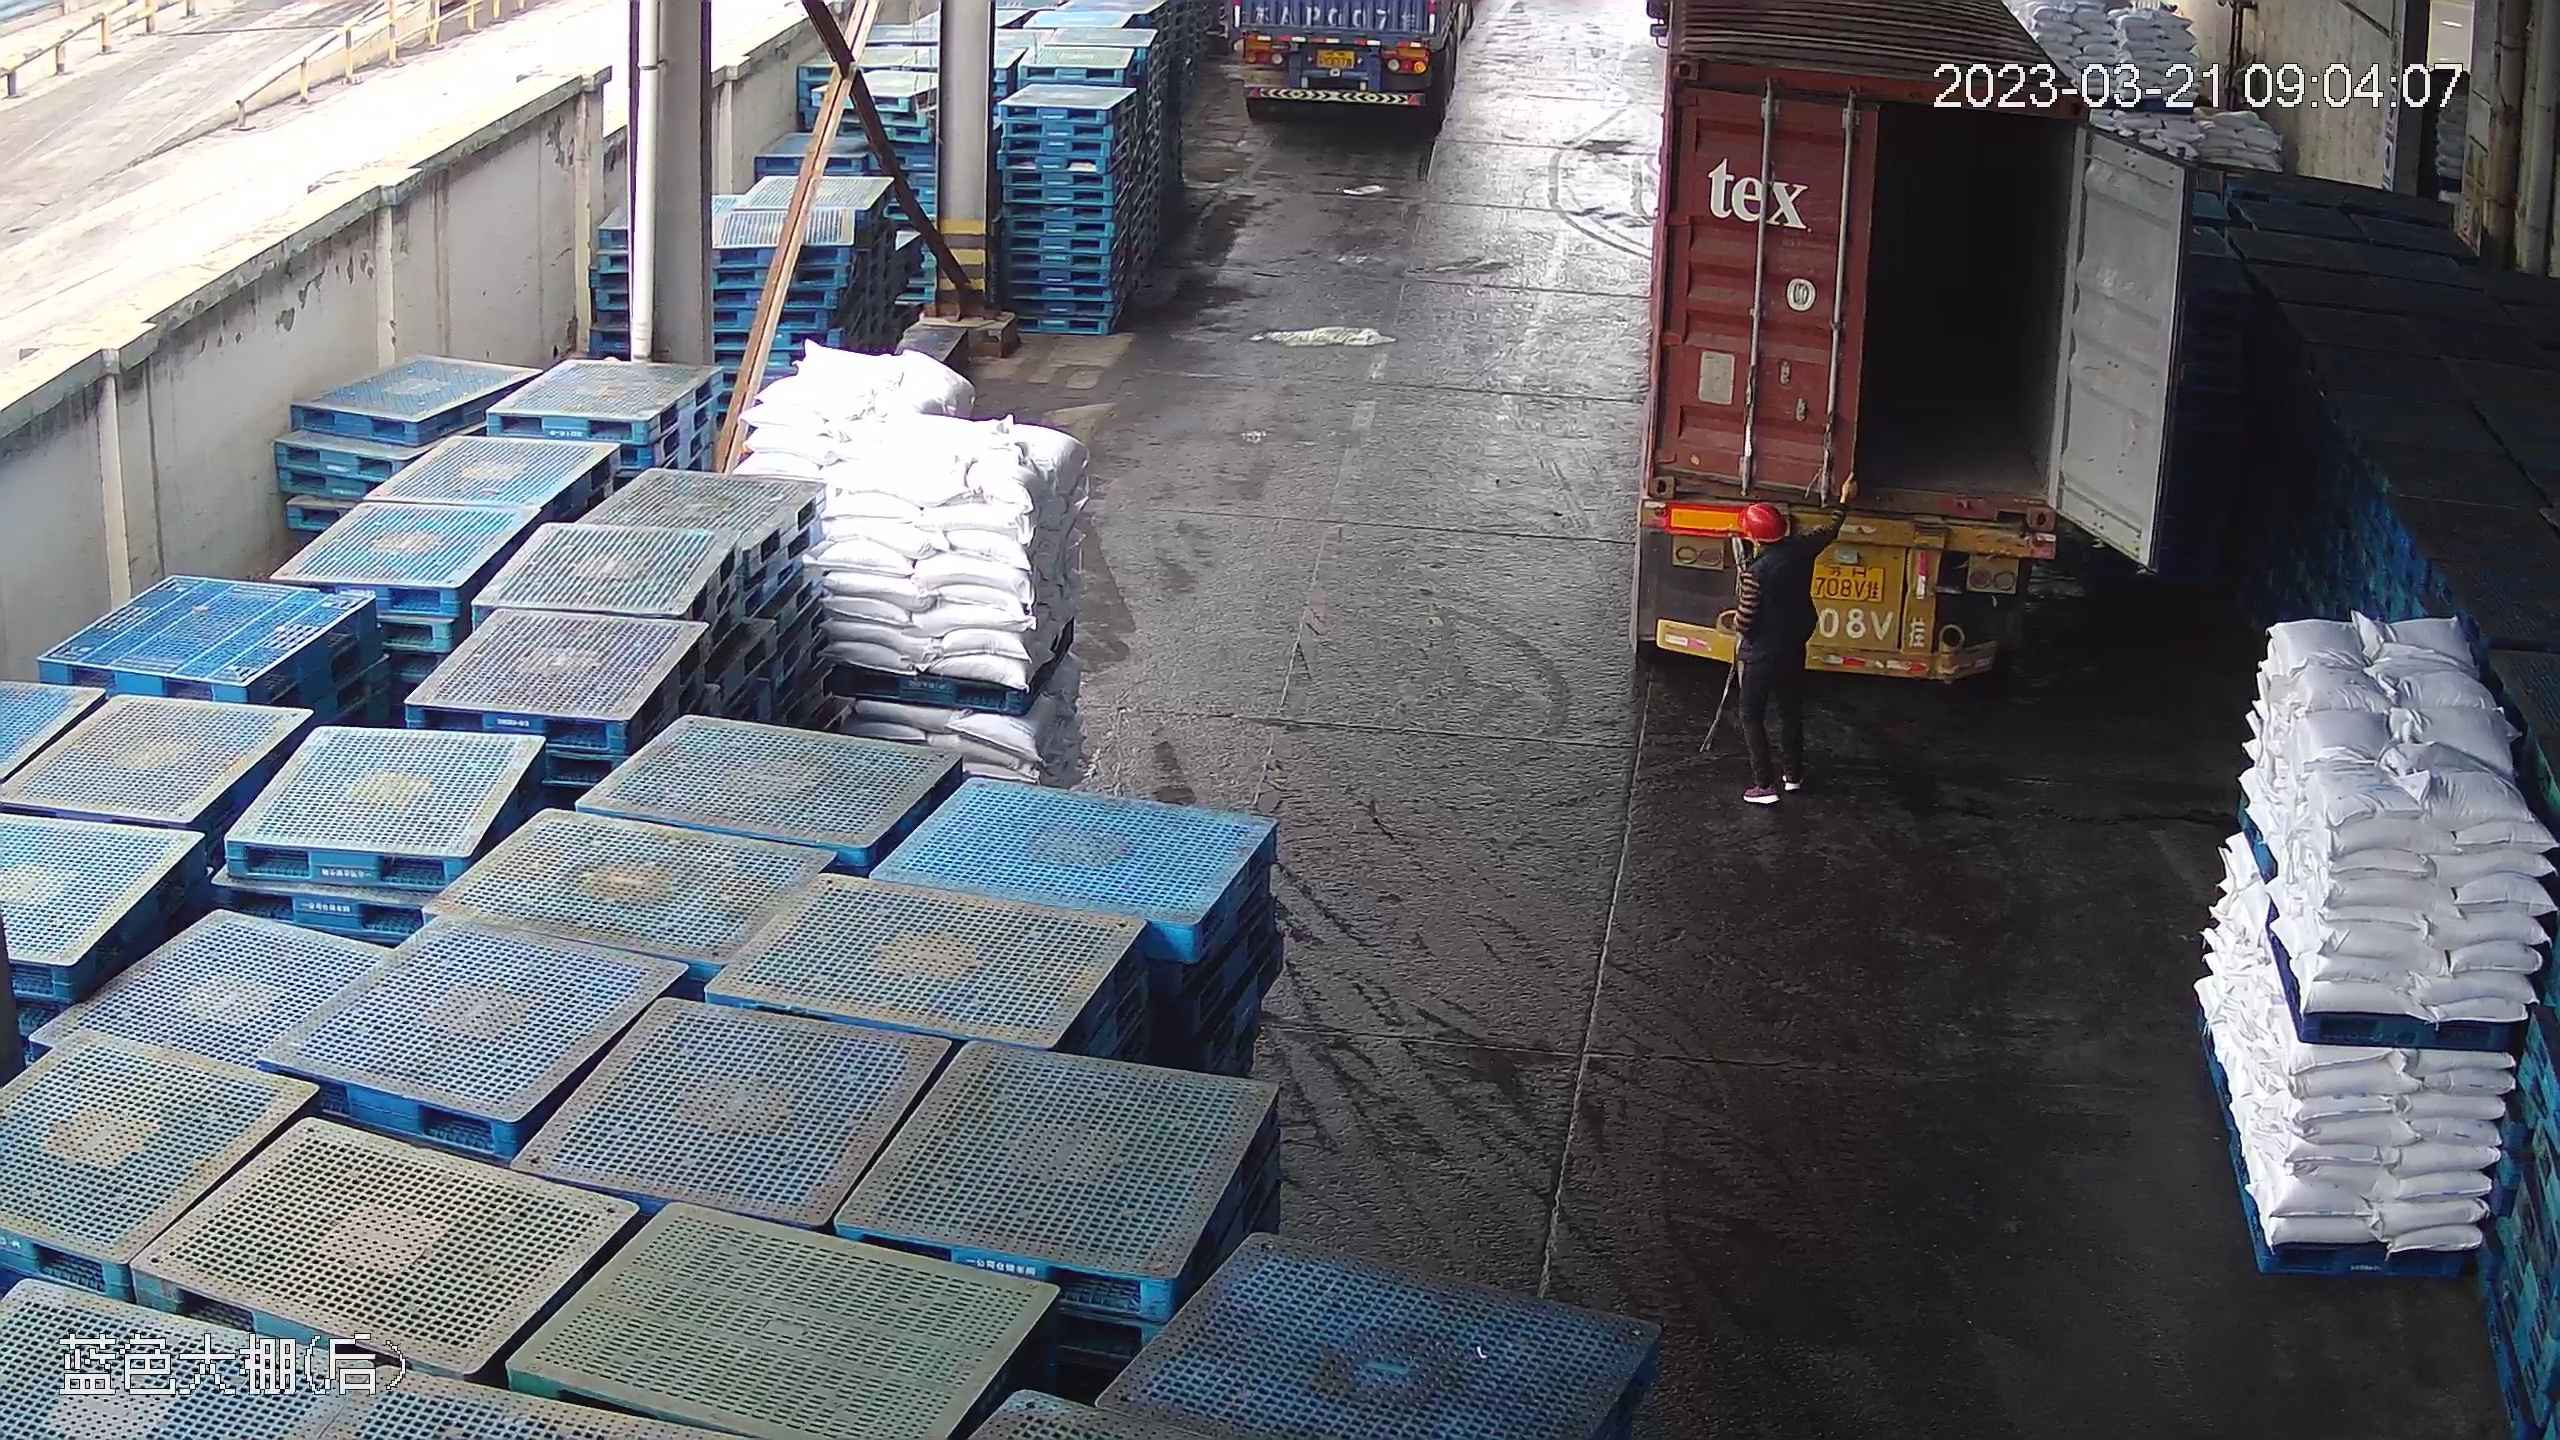head: (1740, 502, 1816, 595)
helmet: (1738, 501, 1786, 538)
people: (1730, 496, 1821, 804)
truck: (1620, 1, 2109, 718), (1220, 2, 1478, 111)
